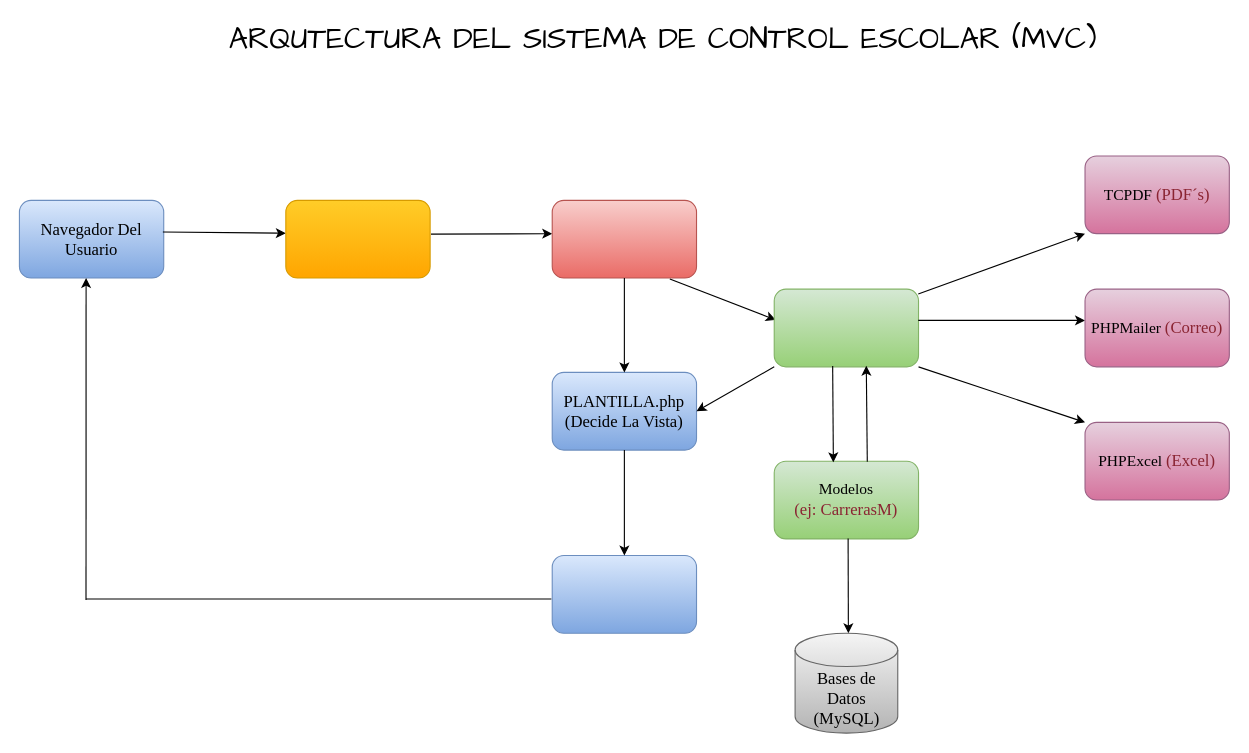
The diagram is 1249 pixels wide and 753 high, and some of its shapes have lost their labels. Here are the shapes that lost their labels. From the top down, the box of each, then its label:
(285, 199, 430, 278): . htaccess (Reescribe La URL)
(551, 199, 697, 278): index.php (front controller)
(773, 288, 919, 367): Controladores (ej: CarrerasC)
(551, 554, 697, 633): Vistas/Modulos 49 Archivos
